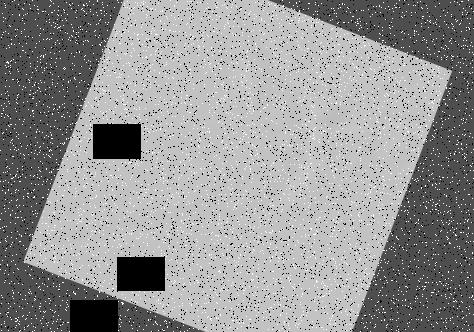Hyperbola: (22, 0, 396, 332)
